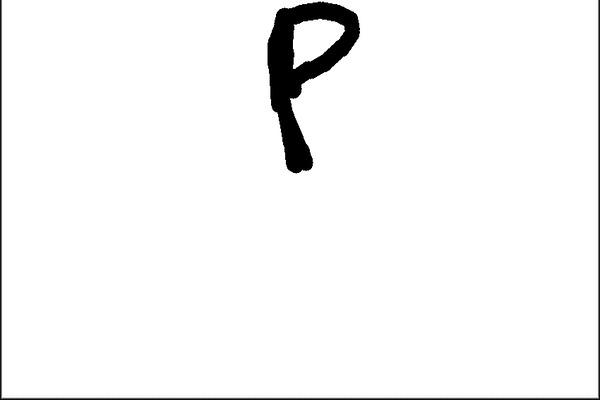P: (257, 0, 371, 181)
